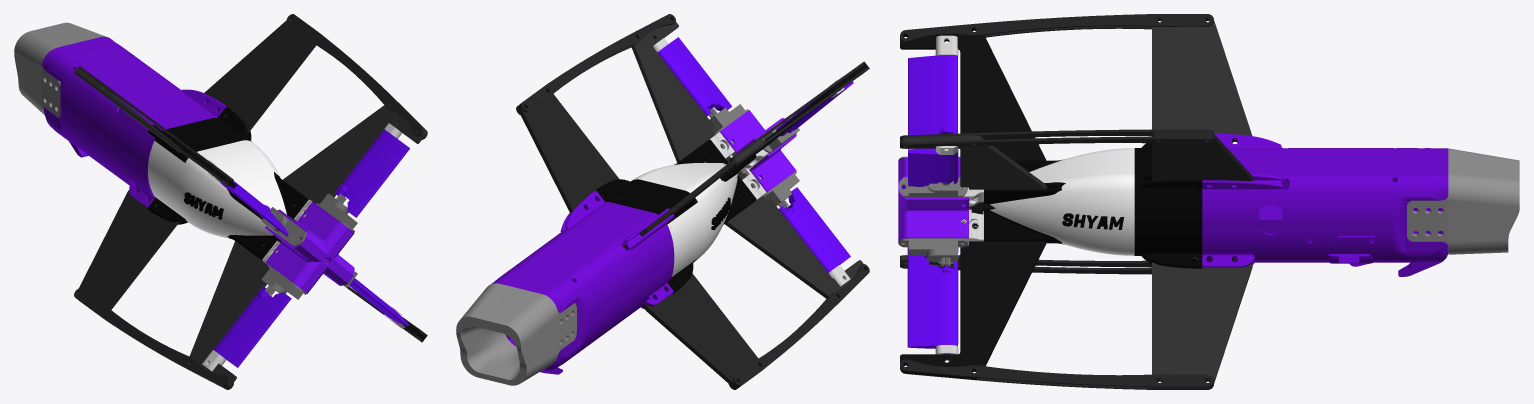
Rendered from darkstar.glb.
3 renders of one model, left to right at view 1: azimuth 30°, elevation 25°; view 2: azimuth 150°, elevation 25°; view 3: azimuth 270°, elevation 25°, orthographic. The views are drawn at different scales.
Visible parts, largest first — view 1: Hunter_Main_Body_V2-1, hunter_fuselage-1, wing_2_CF-1, wing_4_CF-1, hunter_servo_holders-1, RoboMaster_Dart_Trigger_Device-1, hunter_control_fins-2, hunter_control_fins-4, wishbone_CF-5, wishbone_CF-3, hunter_control_fins-1, blue_arrow_servos_HUNTER-1 (+7 smaller); view 2: Hunter_Main_Body_V2-1, wing_2_CF-1, wing_4_CF-1, hunter_fuselage-1, RoboMaster_Dart_Trigger_Device-1, hunter_control_fins-4, hunter_servo_holders-1, hunter_control_fins-2, wishbone_CF-3, wishbone_CF-5, wing_1_CF-1, hunter_rear_clip-1 (+7 smaller); view 3: Hunter_Main_Body_V2-1, hunter_fuselage-1, wing_1_CF-1, wing_3_CF-1, RoboMaster_Dart_Trigger_Device-1, hunter_control_fins-3, hunter_control_fins-1, wing_2_CF-1, wishbone_CF-4, wishbone_CF-7, wing_4_CF-1, hunter_servo_holders-1 (+10 smaller).
Part boxes in pixels (<box>): Hunter_Main_Body_V2-1: <box>42,36,226,207</box>; hunter_fuselage-1: <box>148,107,308,259</box>; wing_2_CF-1: <box>78,18,316,318</box>; wing_4_CF-1: <box>189,101,426,388</box>; hunter_servo_holders-1: <box>265,201,354,293</box>; RoboMaster_Dart_Trigger_Device-1: <box>14,22,107,116</box>; hunter_control_fins-2: <box>334,129,409,217</box>; hunter_control_fins-4: <box>214,286,291,367</box>; wishbone_CF-5: <box>74,288,229,386</box>; wishbone_CF-3: <box>286,14,423,136</box>; hunter_control_fins-1: <box>212,175,288,236</box>; blue_arrow_servos_HUNTER-1: <box>261,265,306,299</box>; Hunter_Main_Body_V2-1: <box>491,190,674,374</box>; wing_2_CF-1: <box>517,90,763,388</box>; wing_4_CF-1: <box>631,18,865,299</box>; hunter_fuselage-1: <box>595,139,756,293</box>; RoboMaster_Dart_Trigger_Device-1: <box>456,283,576,385</box>; hunter_control_fins-4: <box>779,187,850,272</box>; hunter_servo_holders-1: <box>720,110,796,192</box>; hunter_control_fins-2: <box>657,37,731,116</box>; wishbone_CF-3: <box>520,14,675,112</box>; wishbone_CF-5: <box>732,264,869,386</box>; wing_1_CF-1: <box>623,138,764,249</box>; hunter_rear_clip-1: <box>709,132,768,200</box>; Hunter_Main_Body_V2-1: <box>1202,133,1448,276</box>; hunter_fuselage-1: <box>984,143,1202,268</box>; wing_1_CF-1: <box>1152,18,1252,388</box>; wing_3_CF-1: <box>900,28,1046,379</box>; RoboMaster_Dart_Trigger_Device-1: <box>1407,148,1519,254</box>; hunter_control_fins-3: <box>907,254,958,354</box>; hunter_control_fins-1: <box>908,55,957,149</box>; wing_2_CF-1: <box>1152,132,1252,262</box>; wishbone_CF-4: <box>900,359,1213,387</box>; wishbone_CF-7: <box>900,14,1213,42</box>; wing_4_CF-1: <box>900,135,1046,264</box>; hunter_servo_holders-1: <box>898,157,968,246</box>.
Size of the model in its own units: 0.1146 by 0.1146 by 0.2477.
